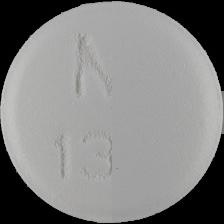61786-851: (0, 0, 224, 224)
